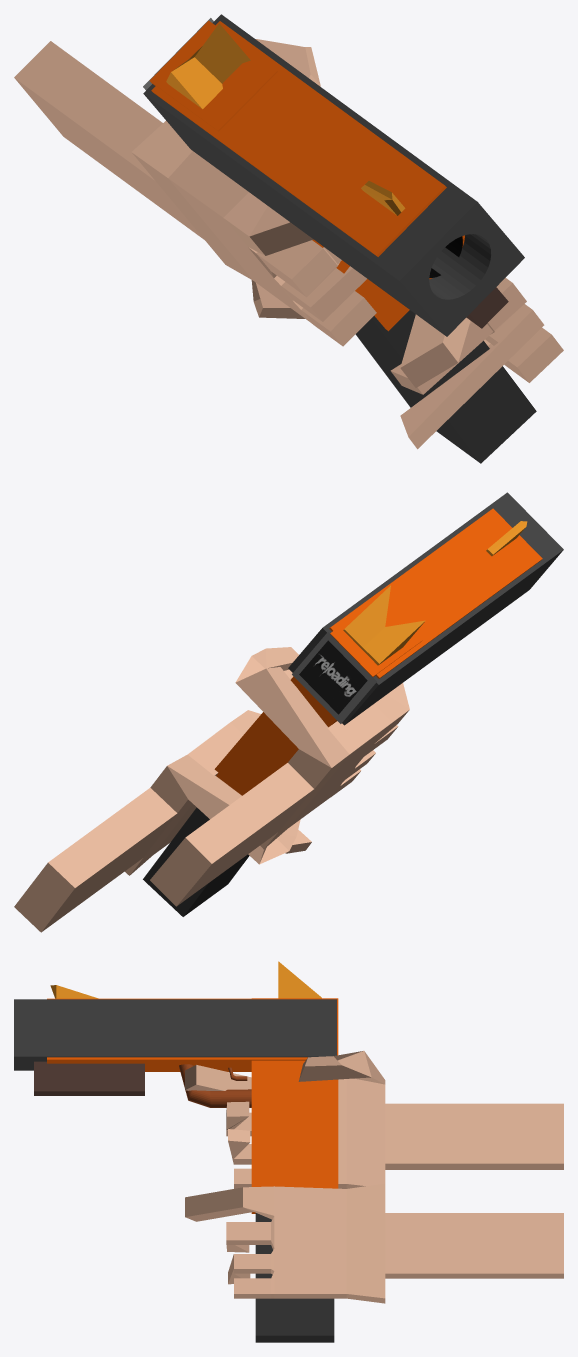
The model's file is gun pistol realoading frame 7.fbx.
3 renders of one model, top to bottom at view 1: azimuth 30°, elevation 25°; view 2: azimuth 150°, elevation 25°; view 3: azimuth 270°, elevation 25°, orthographic. The views are drawn at different scales.
Visible parts, largest first — view 1: Cube, Cube.005, Cube.001, Cube.008, Cube.004, Cube.002, Cube.006, Cube.003, Cube.007; view 2: Cube, Cube.008, Cube.001, Cube.005, Cube.002, Cube.006, Plane.001, Cube.004, Plane; view 3: Cube.008, Cube, Cube.005, Cube.002, Cube.004, Cube.003, Cube.001, Cylinder, Cube.006.
Boxes of the visible parts, <box> form: Cube: <box>14,39,376,346</box>; Cube.005: <box>143,14,524,336</box>; Cube.001: <box>151,21,464,279</box>; Cube.008: <box>251,277,563,449</box>; Cube.004: <box>355,310,536,463</box>; Cube.002: <box>149,20,409,331</box>; Cube.006: <box>166,23,250,109</box>; Cube.003: <box>466,287,508,328</box>; Cube.007: <box>361,181,405,215</box>; Cube: <box>150,647,409,906</box>; Cube.008: <box>14,710,311,932</box>; Cube.001: <box>329,508,542,678</box>; Cube.005: <box>288,492,563,725</box>; Cube.002: <box>214,602,422,795</box>; Cube.006: <box>343,585,425,665</box>; Plane.001: <box>299,640,367,714</box>; Cube.004: <box>143,807,249,916</box>; Plane: <box>292,632,376,723</box>; Cube.008: <box>185,1183,563,1303</box>; Cube: <box>185,1051,563,1188</box>; Cube.005: <box>14,999,336,1070</box>; Cube.002: <box>251,998,338,1213</box>; Cube.004: <box>255,1213,334,1342</box>; Cube.003: <box>34,1061,144,1095</box>; Cube.001: <box>47,998,330,1071</box>; Cylinder: <box>179,1064,251,1107</box>; Cube.006: <box>278,961,321,998</box>.
Size of the model in its own units: 335 by 430 by 698.
Materials: 11 (1 with a texture image).
